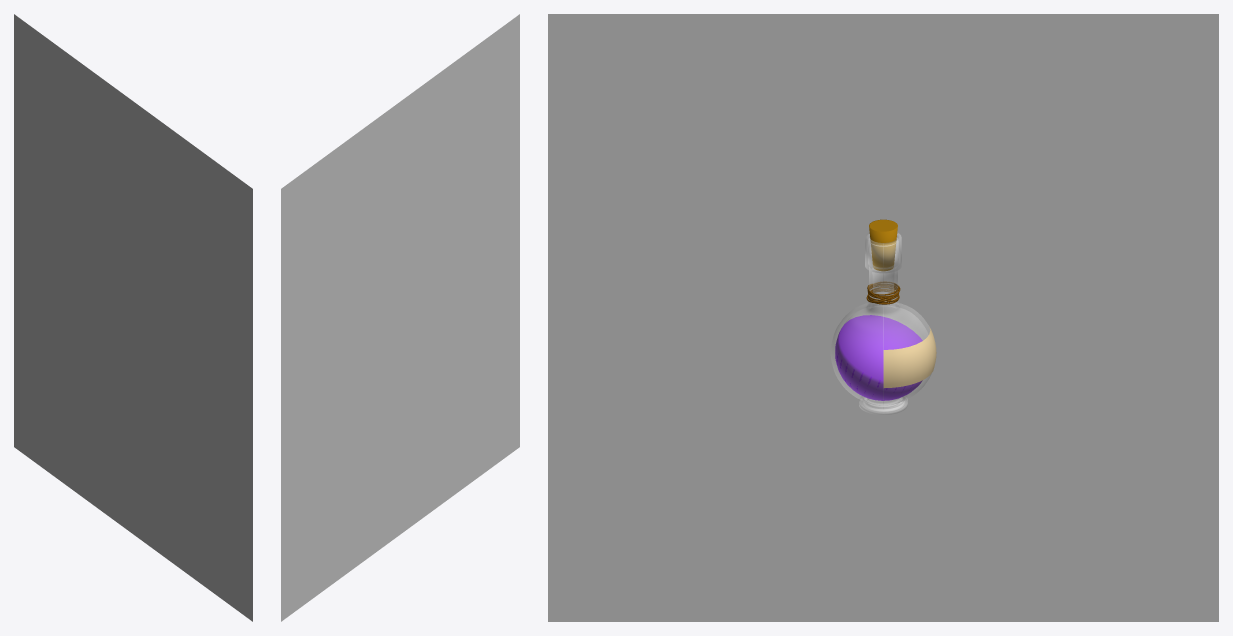
3 renders of one model, left to right at view 1: azimuth 30°, elevation 25°; view 2: azimuth 150°, elevation 25°; view 3: azimuth 270°, elevation 25°, orthographic. The views are drawn at different scales.
Visible parts, largest first — view 1: Object_2; view 2: Object_2; view 3: Object_2, Object_5, Object_4, Object_14, Object_3.
Boxes of the visible parts, x1,y1,x2,y2 form: Object_2: (14, 14, 252, 621); Object_2: (281, 14, 519, 621); Object_2: (548, 14, 1218, 621); Object_5: (831, 233, 931, 414); Object_4: (835, 315, 922, 400); Object_14: (883, 327, 936, 387); Object_3: (869, 219, 897, 271).
Bounding box in the file's own units: 2.55 × 12.69 × 12.69.
